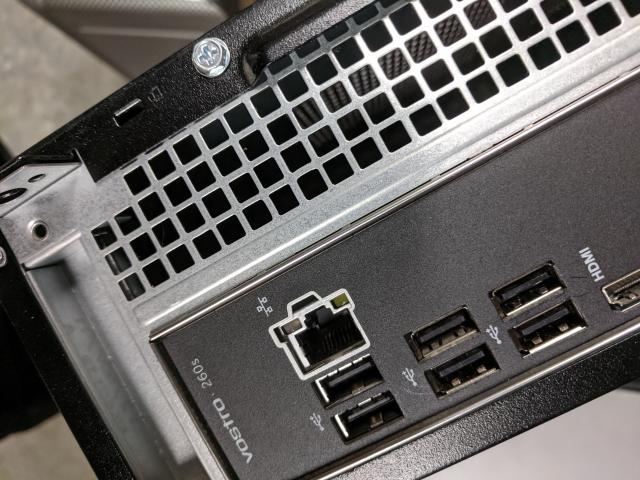CRS: (191, 37, 228, 75)
